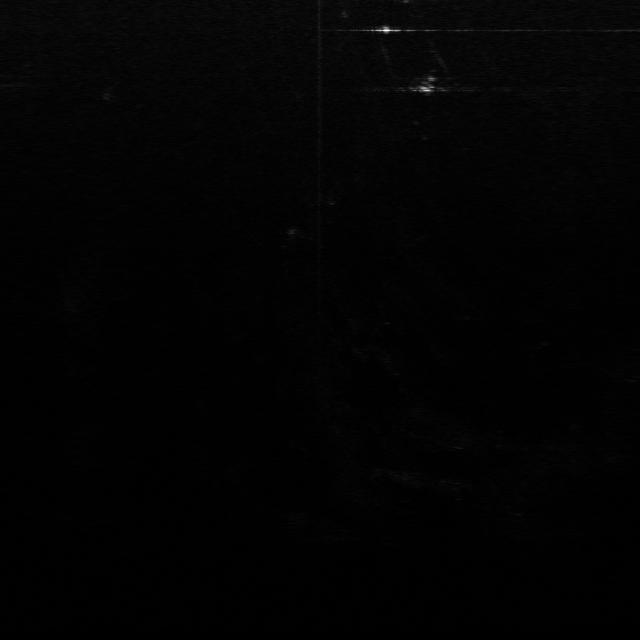rov: (409, 71, 447, 94)
